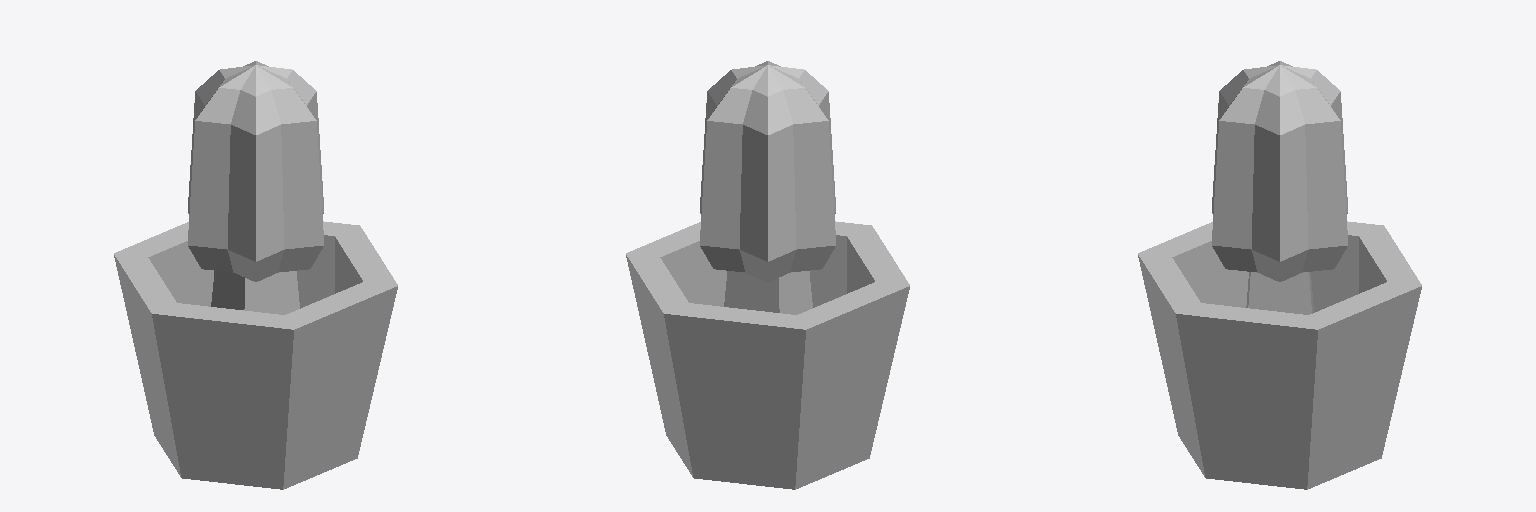
File: plantSmall2.obj
3 views of the same model, side by side, from view 1: azimuth 30°, elevation 25°; view 2: azimuth 150°, elevation 25°; view 3: azimuth 270°, elevation 25° (orthographic).
Visible parts, largest first — view 1: plantSmall2; view 2: plantSmall2; view 3: plantSmall2.
Boxes of the visible parts, box(x1,y1,x2,y2) form: plantSmall2: box(114, 61, 397, 489); plantSmall2: box(626, 61, 909, 489); plantSmall2: box(1138, 61, 1421, 489).
Bounding box in the file's own units: 0.0947 × 0.14 × 0.0947.